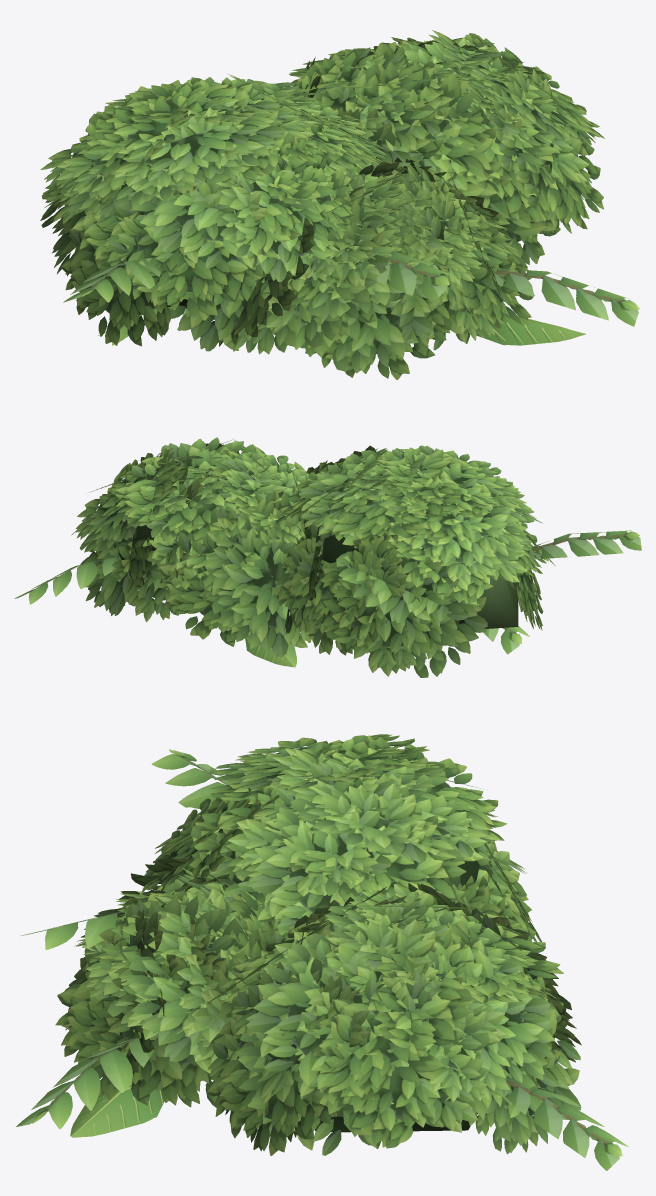
The model's file is bush_b.glb.
The picture shows the model from 3 angles, top to bottom: view 1: azimuth 30°, elevation 25°; view 2: azimuth 150°, elevation 25°; view 3: azimuth 270°, elevation 25°; orthographic projection. The views are drawn at different scales.
Parts seen in each view (by area): view 1: bush_b_mesh; view 2: bush_b_mesh; view 3: bush_b_mesh.
Boxes of the visible parts, box(x1,y1,x2,y2) form: bush_b_mesh: box(40, 30, 639, 379); bush_b_mesh: box(14, 437, 641, 677); bush_b_mesh: box(16, 734, 628, 1170).
Bounding box in the file's own units: 1.98 × 0.6792 × 1.53.
Materials: 1 (1 with a texture image).
